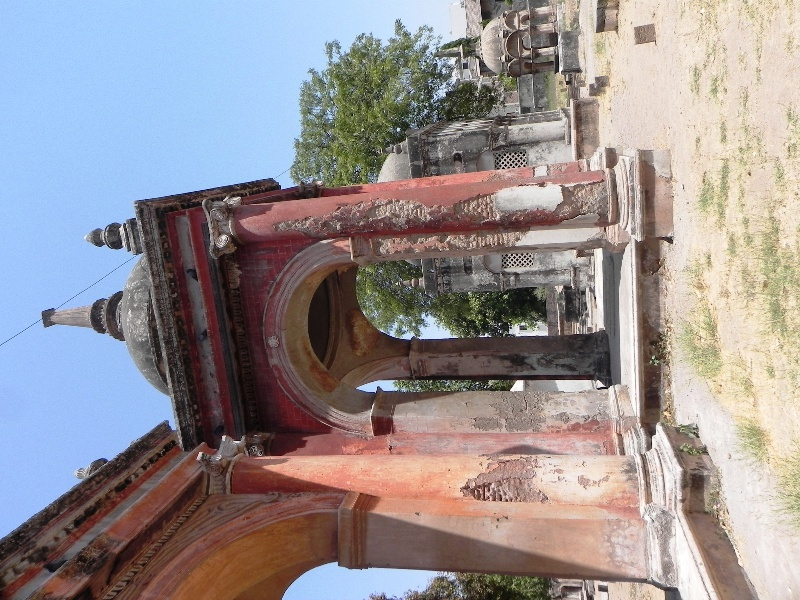Exposed Bricks: (470, 477, 529, 501), (460, 196, 495, 226)
Spalling: (269, 201, 451, 230), (474, 394, 557, 430), (556, 183, 612, 226)
